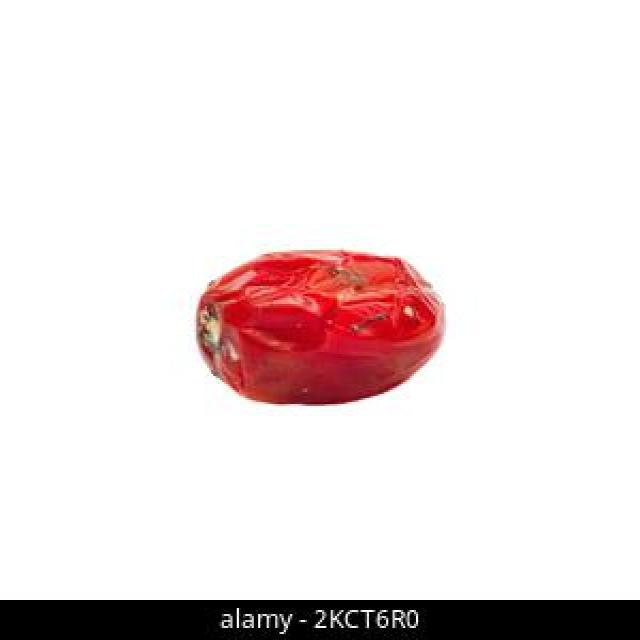Rotten: (192, 248, 447, 406)
